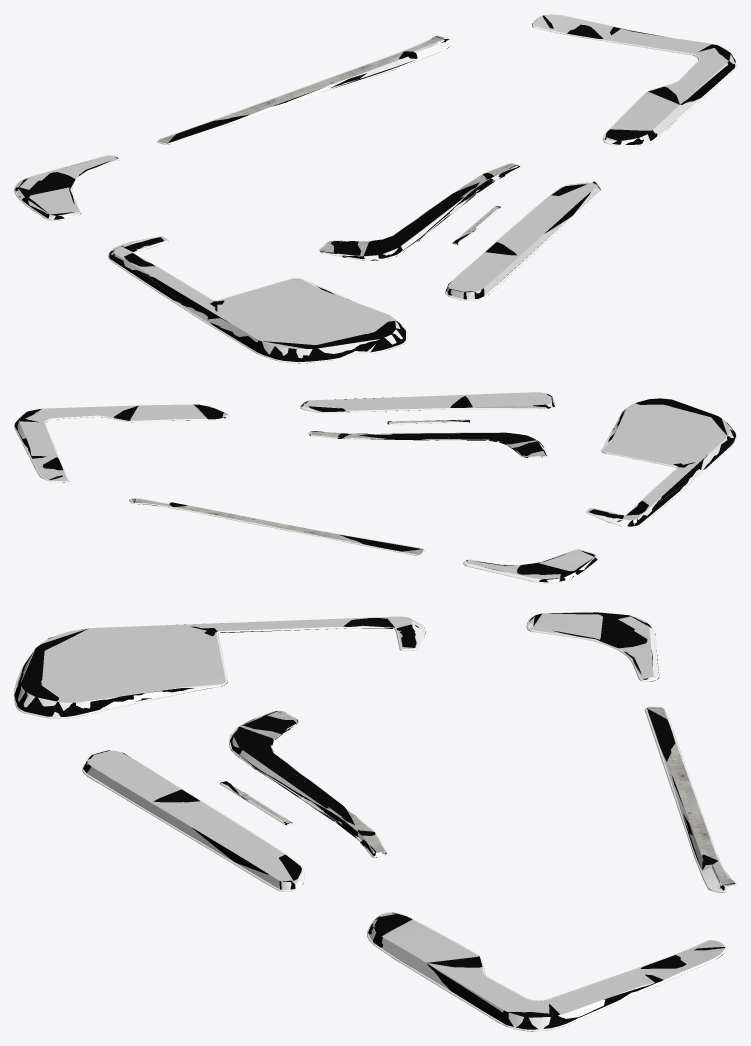
Rendered from s_sidewalk_logistics.dae.
The picture shows the model from 3 angles, top to bottom: view 1: azimuth 30°, elevation 25°; view 2: azimuth 150°, elevation 25°; view 3: azimuth 270°, elevation 25°; orthographic projection. The views are drawn at different scales.
Parts seen in each view (by area): view 1: sidewalk_distribution_a2000, sidewalk_distribution_a500, sidewalk_distribution_a1000; view 2: sidewalk_distribution_a2000, sidewalk_distribution_a500, sidewalk_distribution_a1000; view 3: sidewalk_distribution_a2000, sidewalk_distribution_a500, sidewalk_distribution_a1000.
Boxes of the visible parts, x1=… form: sidewalk_distribution_a2000: x1=14, y1=14, x2=736, y2=363; sidewalk_distribution_a500: x1=15, y1=15, x2=735, y2=363; sidewalk_distribution_a1000: x1=16, y1=15, x2=734, y2=358; sidewalk_distribution_a2000: x1=14, y1=392, x2=736, y2=583; sidewalk_distribution_a500: x1=15, y1=394, x2=735, y2=582; sidewalk_distribution_a1000: x1=18, y1=392, x2=731, y2=582; sidewalk_distribution_a2000: x1=14, y1=612, x2=736, y2=1031; sidewalk_distribution_a500: x1=14, y1=612, x2=735, y2=1031; sidewalk_distribution_a1000: x1=16, y1=612, x2=734, y2=1029.
Bounding box in the file's own units: 103 × 76.09 × 2.52.
